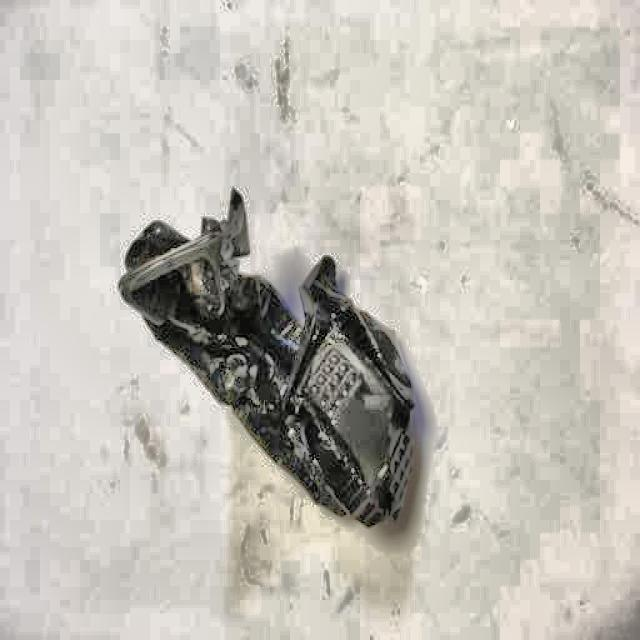plastic: (125, 185, 420, 526)
